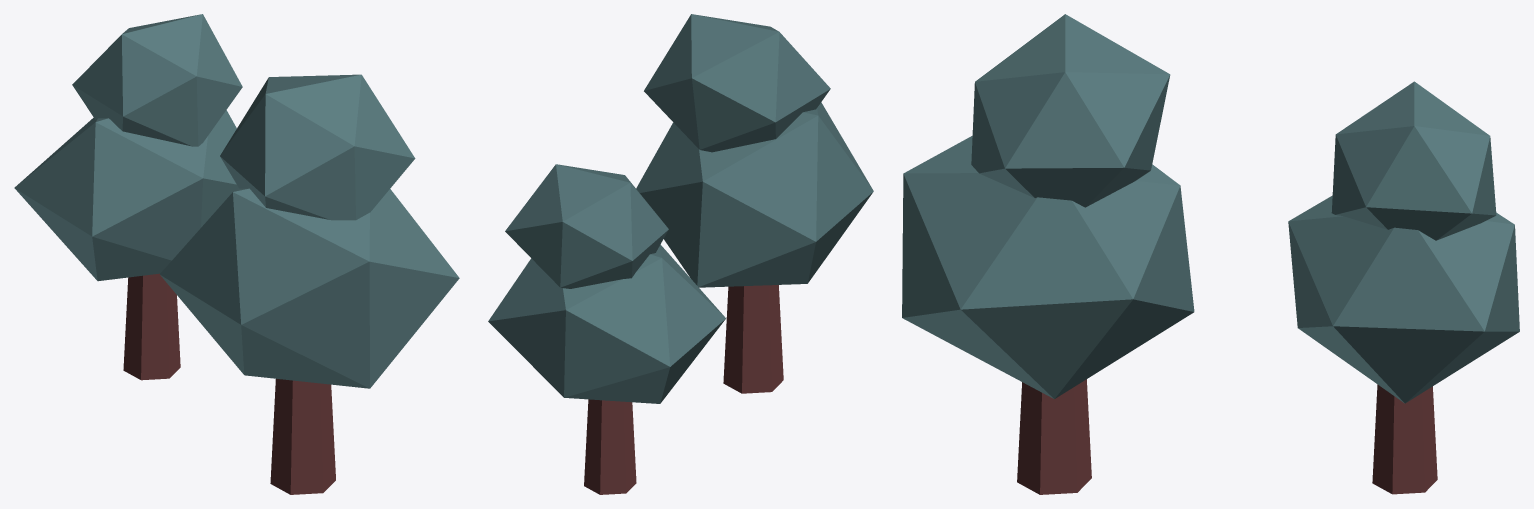
File: grove1.glb
3 views of the same model, side by side, from view 1: azimuth 30°, elevation 25°; view 2: azimuth 150°, elevation 25°; view 3: azimuth 270°, elevation 25° (orthographic). The views are drawn at different scales.
Parts seen in each view (by area): view 1: grove1; view 2: grove1; view 3: grove1.
Boxes of the visible parts, bbox=[...] form: grove1: bbox=[14, 14, 459, 494]; grove1: bbox=[488, 14, 873, 494]; grove1: bbox=[902, 14, 1519, 494].
Size of the model in its own units: 0.5299 by 0.8988 by 1.12.
